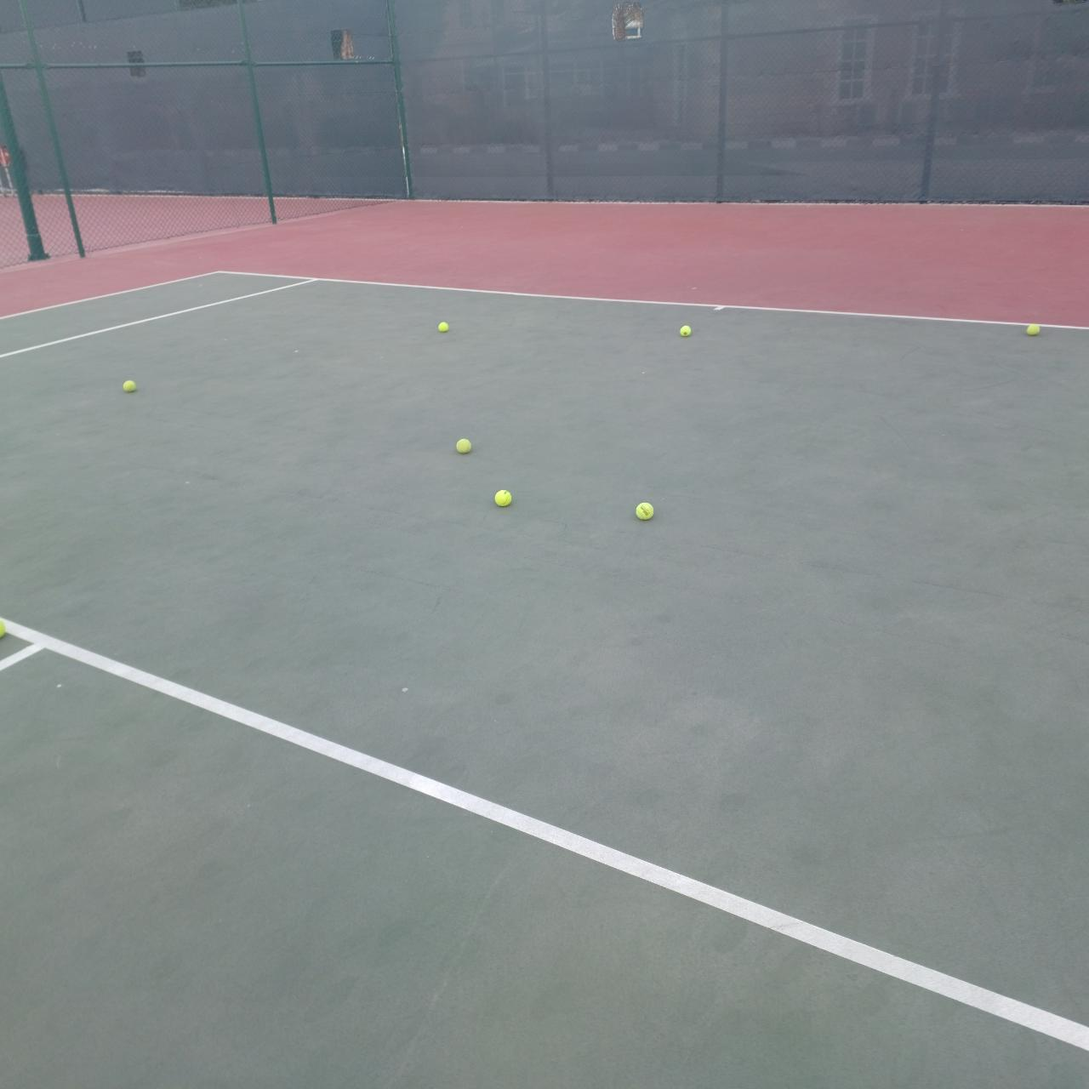tennis-ball: (634, 499, 654, 521), (493, 487, 511, 507), (454, 436, 472, 453), (121, 378, 137, 392), (436, 319, 450, 333), (679, 324, 692, 337), (1027, 324, 1040, 335)
